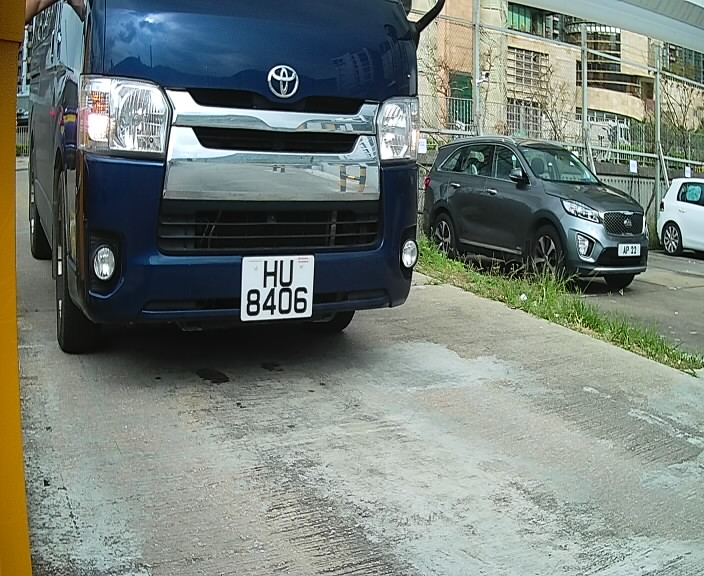Car: (1, 2, 479, 398)
License Plate: (237, 249, 323, 326)
